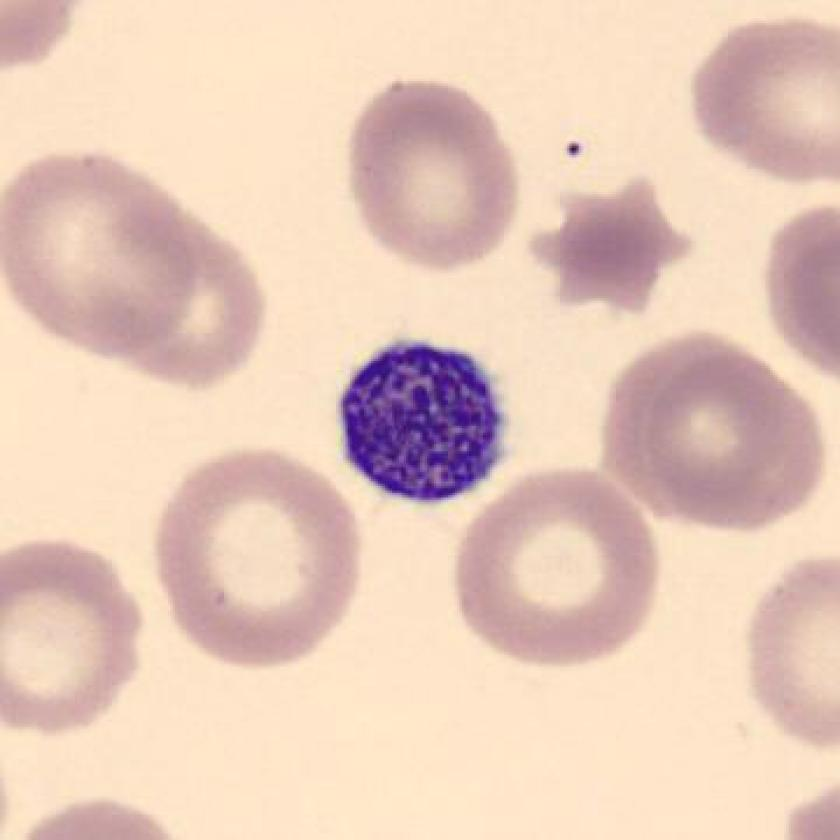platelets: (330, 332, 526, 512)
